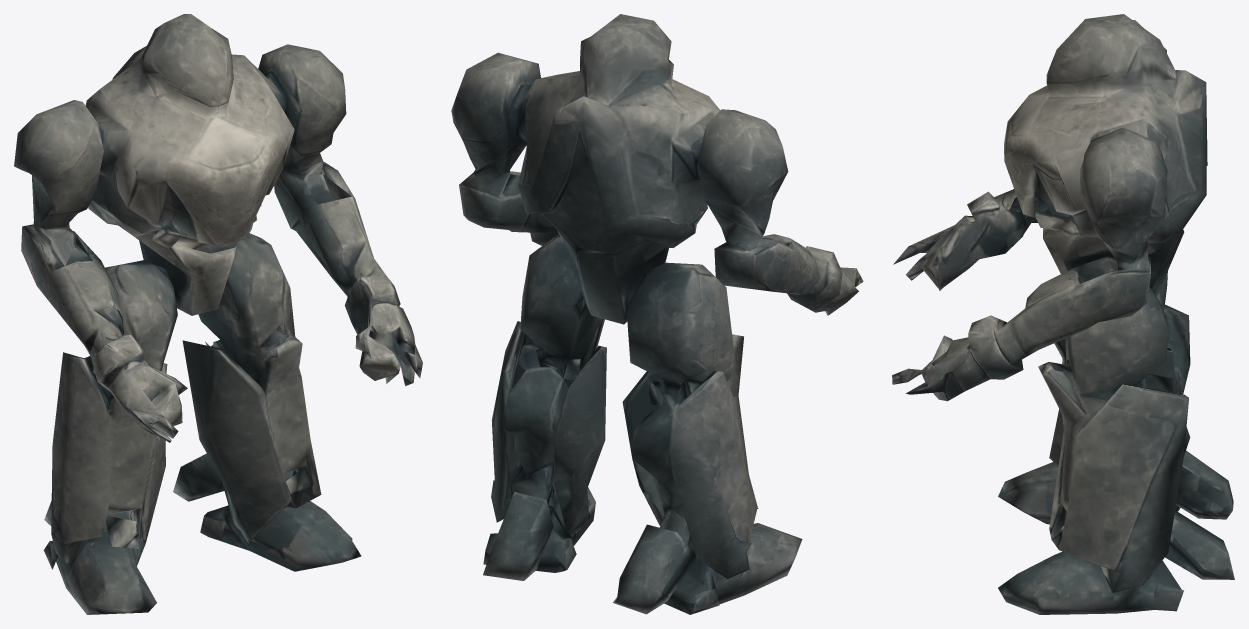
File: rally_mech.glb
3 views of the same model, side by side, from view 1: azimuth 30°, elevation 25°; view 2: azimuth 150°, elevation 25°; view 3: azimuth 270°, elevation 25° (orthographic).
Bounding box in the file's own units: 1.15 × 1.89 × 1.09.
Materials: 1 (1 with a texture image).
